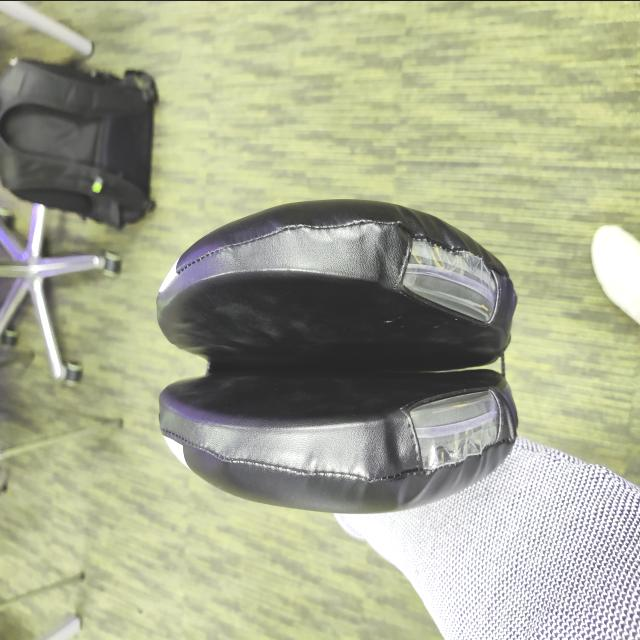paddle: (152, 193, 523, 516)
